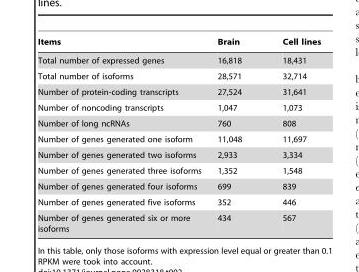table: (37, 37, 320, 232)
table column: (37, 37, 208, 232), (261, 37, 320, 232), (208, 37, 261, 232)
table column header: (37, 37, 320, 50)
table row: (37, 209, 320, 232), (37, 50, 320, 68), (37, 83, 320, 99), (37, 99, 320, 115), (37, 115, 320, 131), (37, 146, 320, 162), (37, 162, 320, 178), (37, 178, 320, 194), (37, 68, 320, 83), (37, 131, 320, 146), (37, 194, 320, 209), (37, 37, 320, 50)
